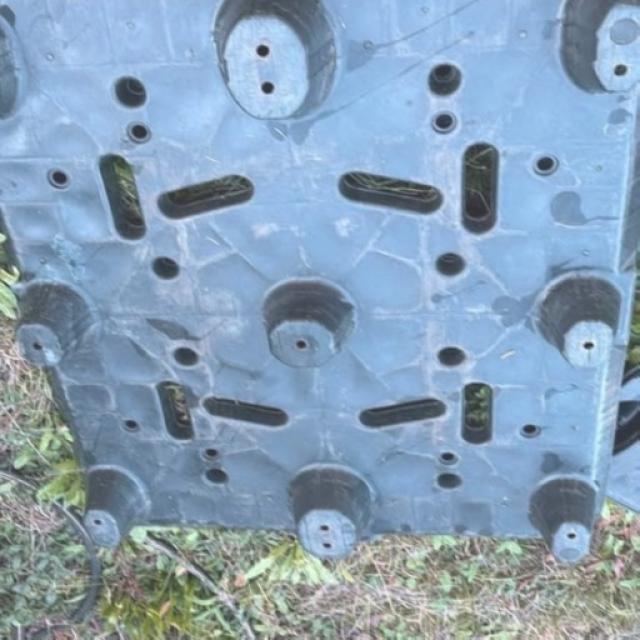non-igps: (0, 0, 639, 578)
